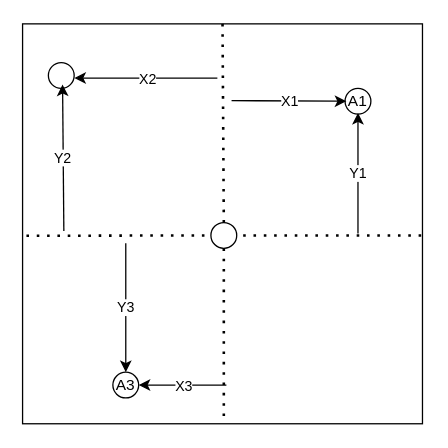
Some shapes in this 448 by 448 pixel diagram are drawn without their labels. Here are the shapes that lost their labels. From the top down, the box of each, then its label:
(47, 61, 74, 88): A2
(210, 221, 237, 248): A0
